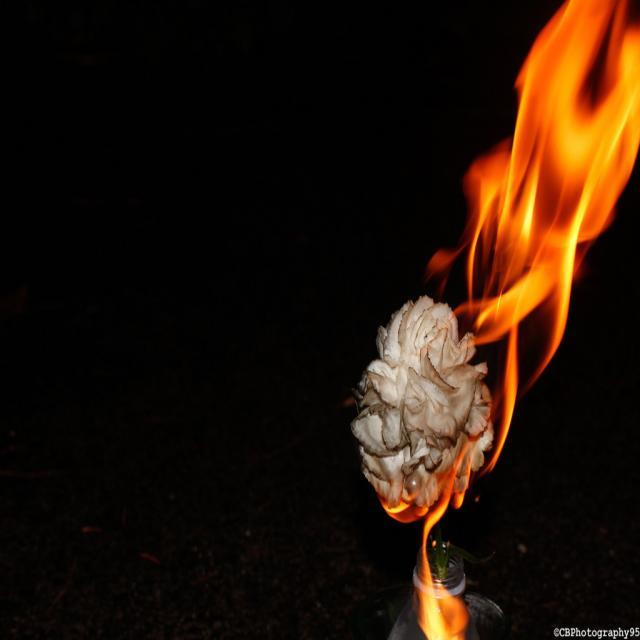Fire: (520, 6, 634, 242), (486, 252, 556, 368)
